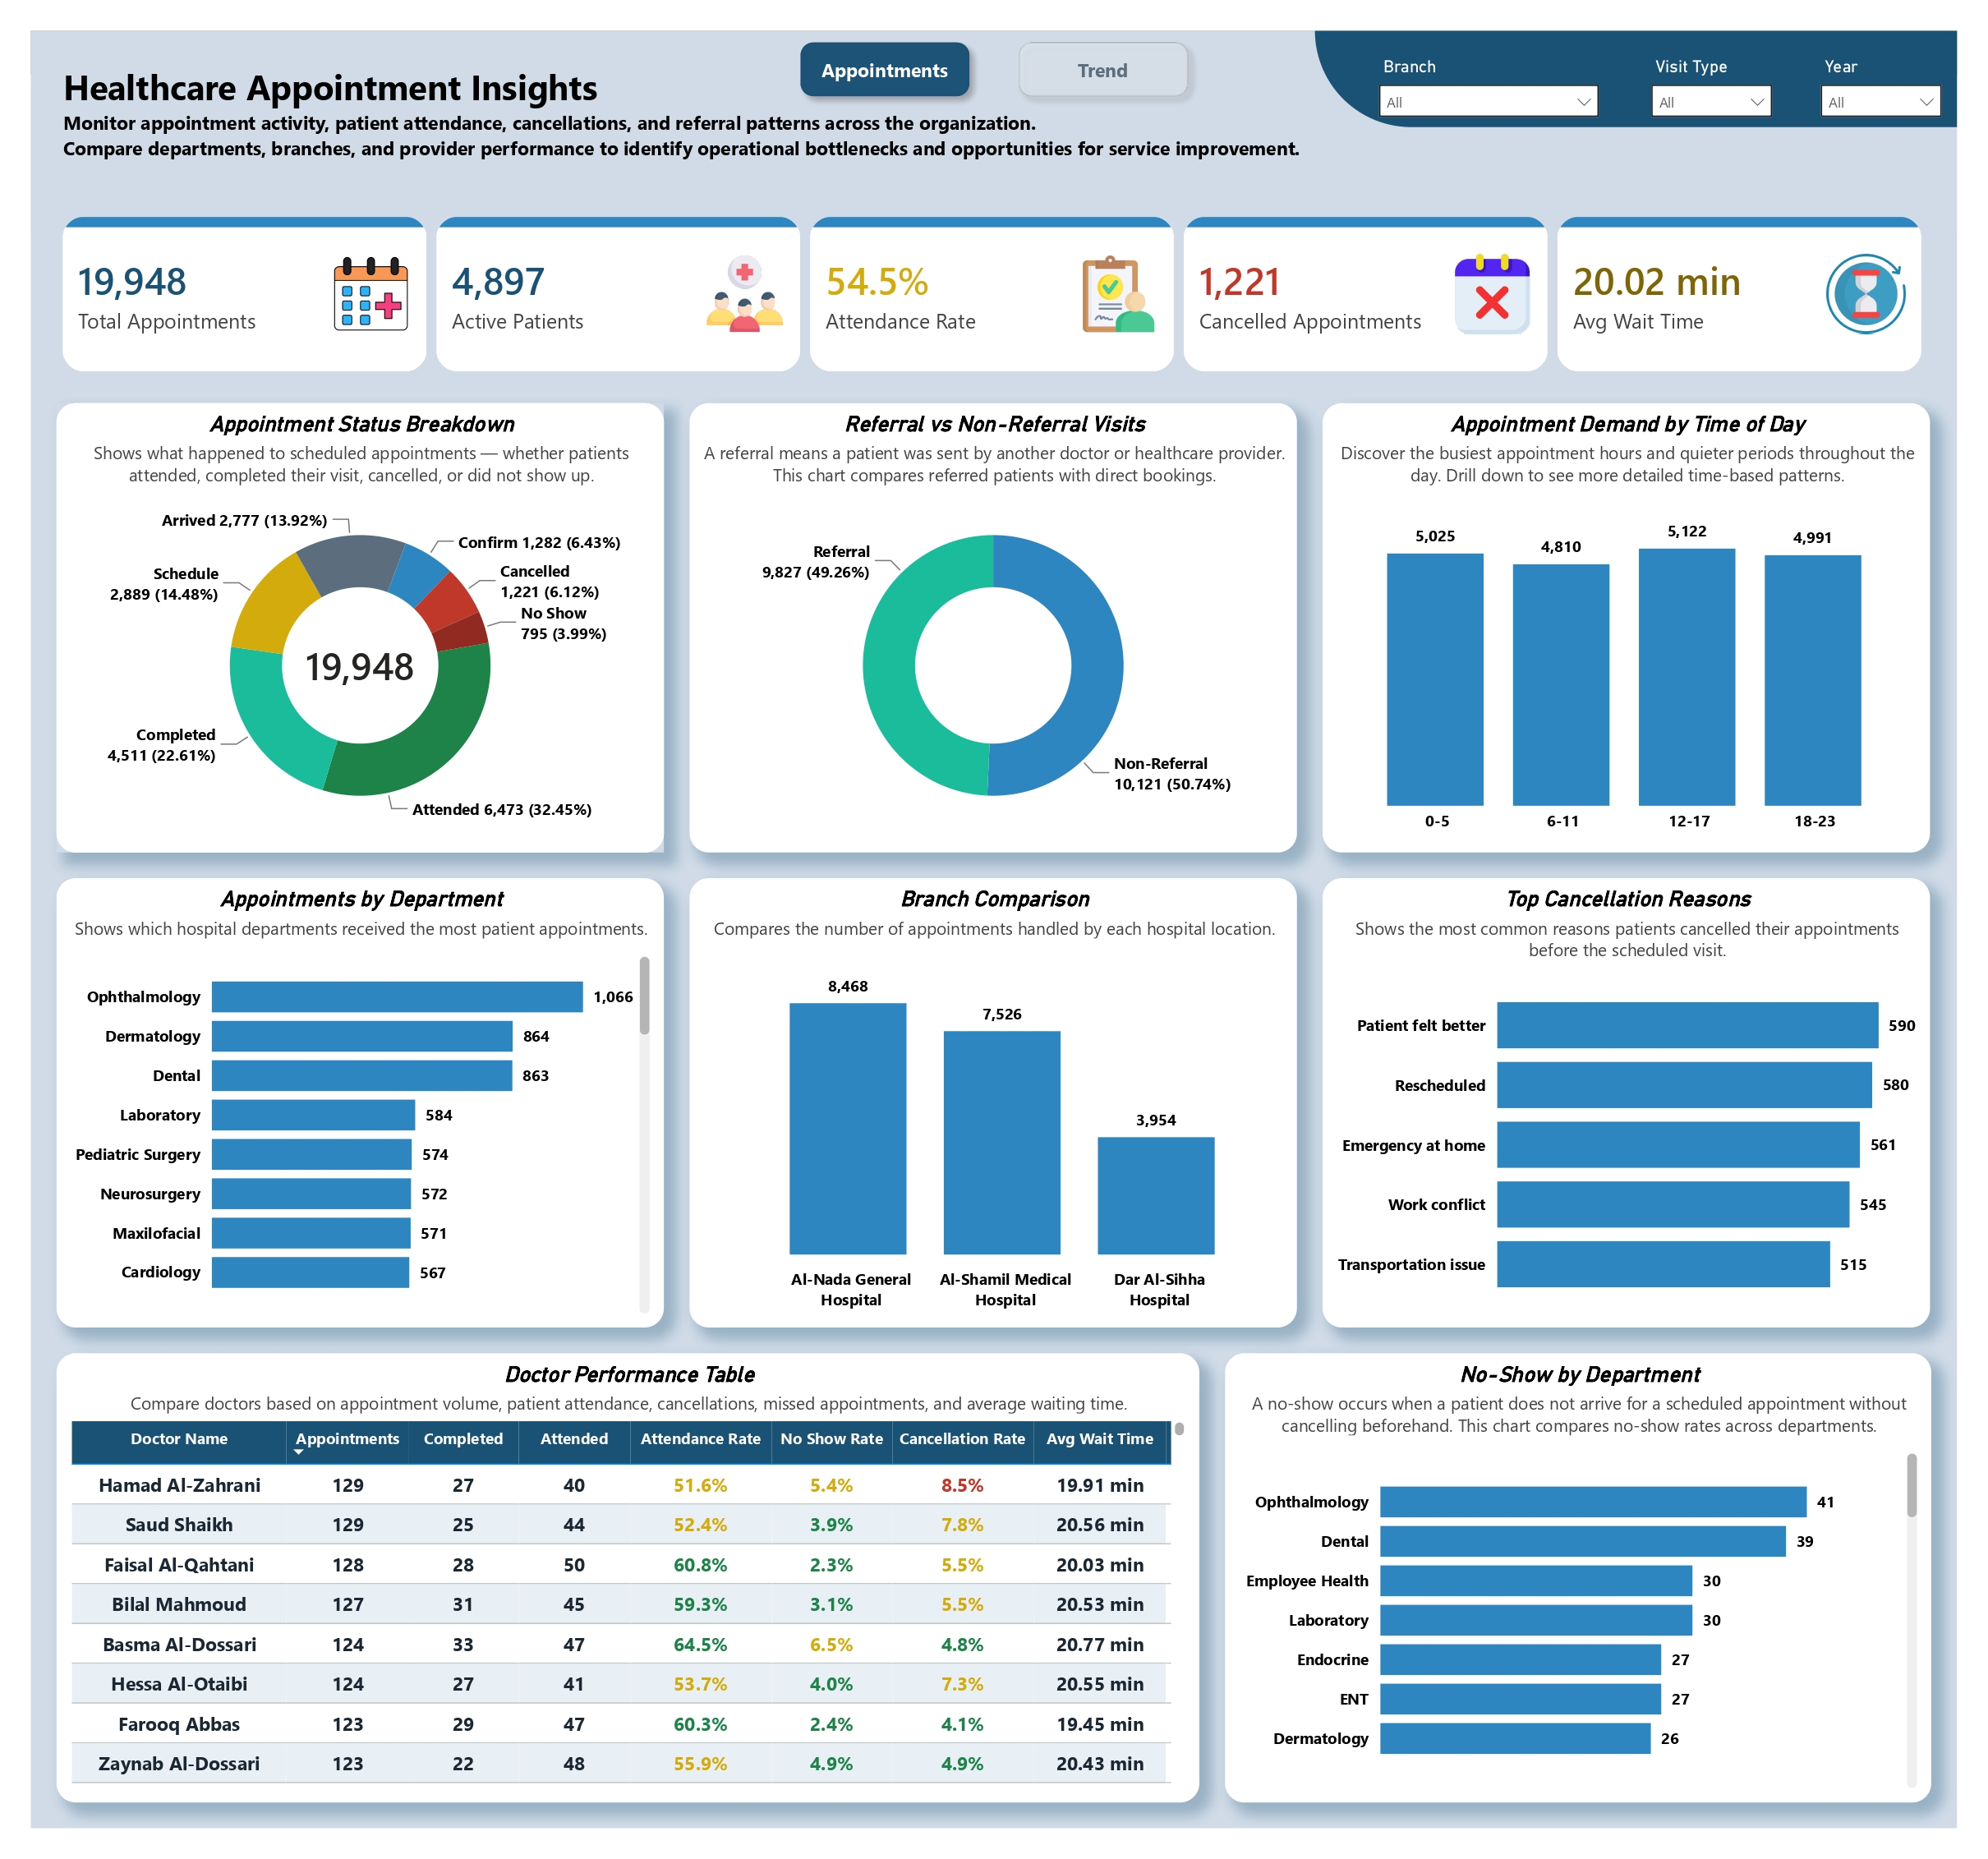

The page's visual inventory and layout, read from the dashboard file:
{"tool":"powerbi","page":{"name":"Appointments","canvas":[1500,1400],"ordinal":0},"visuals":[{"type":"actionButton","box":[590,0,150,60],"z":0,"group":"g3"},{"type":"shape","box":[1000,0,500,75],"z":0,"group":"g4"},{"type":"slicer","fields":{"Values":["Calendar Table.Year"]},"box":[1384,15,114,60],"z":0,"group":"g2"},{"type":"group","id":"g1","title":"Group 1","box":[20,290,473,350],"z":0},{"type":"shape","box":[20,290,473,350],"z":0,"group":"g1"},{"type":"actionButton","box":[760,0,150,60],"z":1000,"group":"g3"},{"type":"group","id":"g2","title":"Group 1","box":[1040,15,458,60],"z":1000,"group":"g4"},{"type":"slicer","fields":{"Values":["Branches.BranchName"]},"box":[1040,15,191,60],"z":1000,"group":"g2"},{"type":"textbox","box":[20,20,980,100],"z":1000},{"type":"cardVisual","fields":{"Data":["_Measures.Total Appointments"]},"box":[185,455,143,75],"z":1000,"group":"g1"},{"type":"slicer","fields":{"Values":["VisitType.description"]},"box":[1251.8,15,114,60],"z":2000,"group":"g2"},{"type":"donutChart","title":"Appointment Status Breakdown","fields":{"Y":["_Measures.Total Appointments"],"Category":["Appointment Status.description"]},"box":[20,290,473,350],"z":2000,"group":"g1"},{"type":"donutChart","title":"Referral vs Non-Referral Visits","fields":{"Y":["_Measures.Total Appointments"],"Category":["Appointments.IsReferral"]},"box":[513,290,473,350],"z":2000},{"type":"cardVisual","fields":{"Data":["_Measures.Total Appointments","_Measures.Active Patients","_Measures.Attendance Rate","_Measures.Cancelled Appointments","_Measures.Avg Wait Time"]},"box":[20,140,1460,130],"z":3000},{"type":"barChart","title":"Appointments by Department","fields":{"Category":["Departments.DepartmentTitle"],"Y":["_Measures.Total Appointments"]},"box":[20,660,473,350],"z":4000},{"type":"columnChart","title":"Branch Comparison","fields":{"Category":["Branches.BranchName"],"Y":["_Measures.Total Appointments"]},"box":[513,660,473,350],"z":5000},{"type":"barChart","title":"Top Cancellation Reasons","fields":{"Category":["Appointments.CancellationReason"],"Y":["_Measures.Total Appointments"]},"box":[1006,660,473,350],"z":6000},{"type":"tableEx","title":"Doctor Performance Table","fields":{"Values":["Doctors.FullName","_Measures.Total Appointments","_Measures.Completed Appointments","_Measures.Attended Appointments","_Measures.Attendance Rate","_Measures.No Show %","_Measures.Cancelled %","_Measures.Avg Wait Time","Doctors.UserID"]},"box":[20,1030,890,350],"z":7000},{"type":"barChart","title":"No-Show by Department","fields":{"Category":["Departments.DepartmentTitle"],"Y":["_Measures.No Show %"]},"box":[930,1030,550,350],"z":8000},{"type":"clusteredColumnChart","title":"Appointment Demand by Time of Day","fields":{"Category":["Appointments.Hour Range","Appointments.Hour"],"Y":["_Measures.Total Appointments"]},"box":[1006,290,473,350],"z":9000},{"type":"group","id":"g3","title":"Group 1","box":[590,0,320,60],"z":10000},{"type":"group","id":"g4","title":"Group 2","box":[1000,0,500,75],"z":11000}]}

Visuals, with their boxes in screenshot pixels (x1, y1, x2, y2), scaled from the page's 1500x1400 canvas onto the 1988x1859 screenshot:
actionButton: 782, 0, 981, 80
shape: 1325, 0, 1987, 99
slicer - Calendar Table.Year: 1834, 20, 1986, 99
"Group 1" group: 26, 385, 653, 850
shape: 26, 385, 653, 850
actionButton: 1007, 0, 1206, 80
"Group 1" group: 1378, 20, 1986, 99
slicer - Branches.BranchName: 1378, 20, 1631, 99
textbox: 26, 26, 1325, 159
cardVisual - _Measures.Total Appointments: 245, 604, 435, 704
slicer - VisitType.description: 1659, 20, 1810, 99
"Appointment Status Breakdown" donutChart: 26, 385, 653, 850
"Referral vs Non-Referral Visits" donutChart: 680, 385, 1307, 850
cardVisual - _Measures.Total Appointments x _Measures.Active Patients: 26, 186, 1962, 358
"Appointments by Department" barChart: 26, 877, 653, 1341
"Branch Comparison" columnChart: 680, 877, 1307, 1341
"Top Cancellation Reasons" barChart: 1333, 877, 1960, 1341
"Doctor Performance Table" tableEx: 26, 1368, 1206, 1833
"No-Show by Department" barChart: 1232, 1368, 1962, 1833
"Appointment Demand by Time of Day" clusteredColumnChart: 1333, 385, 1960, 850
"Group 1" group: 782, 0, 1206, 80
"Group 2" group: 1325, 0, 1987, 99
